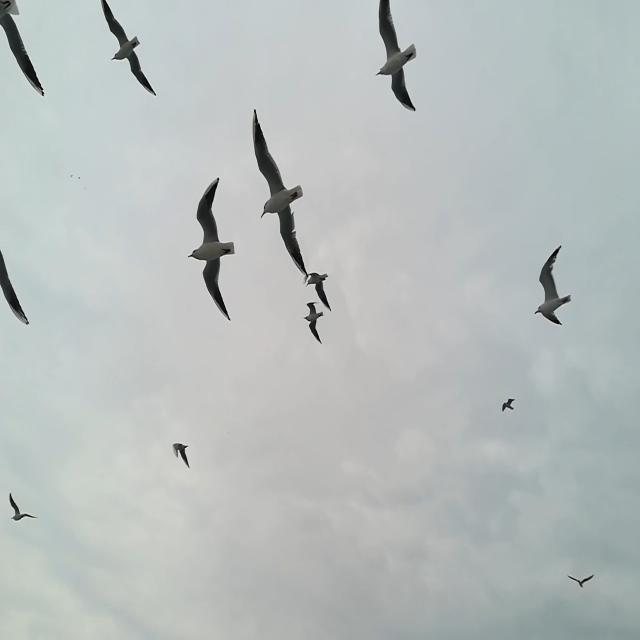bird: (250, 104, 307, 279), (189, 178, 235, 319), (101, 3, 160, 96), (374, 2, 418, 114), (0, 1, 45, 97), (535, 246, 571, 326), (0, 238, 29, 328), (304, 271, 332, 311), (9, 493, 40, 522), (302, 302, 323, 344), (172, 442, 194, 472), (566, 572, 595, 590), (502, 399, 516, 413)
